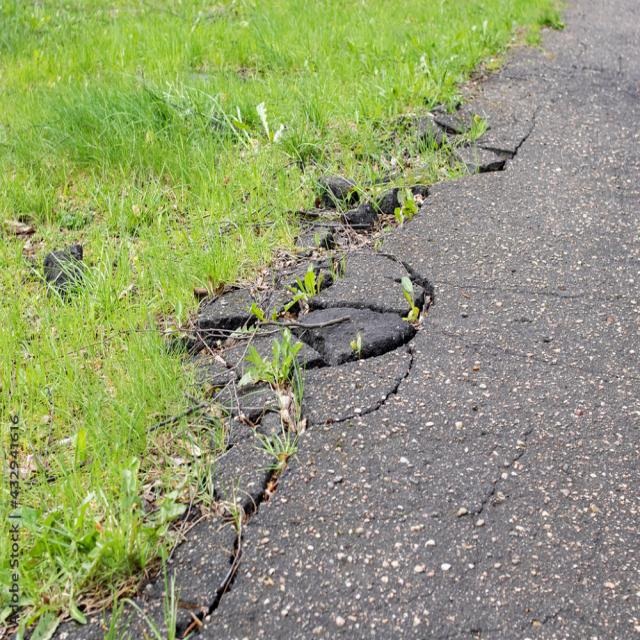Pothole: (9, 2, 568, 640)
